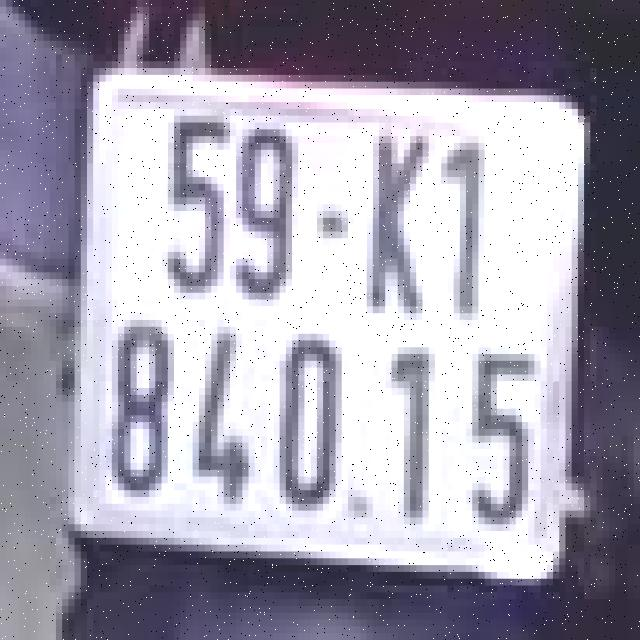0: (270, 306, 345, 524)
1: (379, 330, 441, 541), (438, 129, 500, 327)
4: (190, 310, 264, 528)
5: (460, 330, 547, 541), (155, 109, 230, 293)
8: (100, 310, 180, 500)
9: (233, 109, 301, 313)
K: (354, 116, 435, 320)
